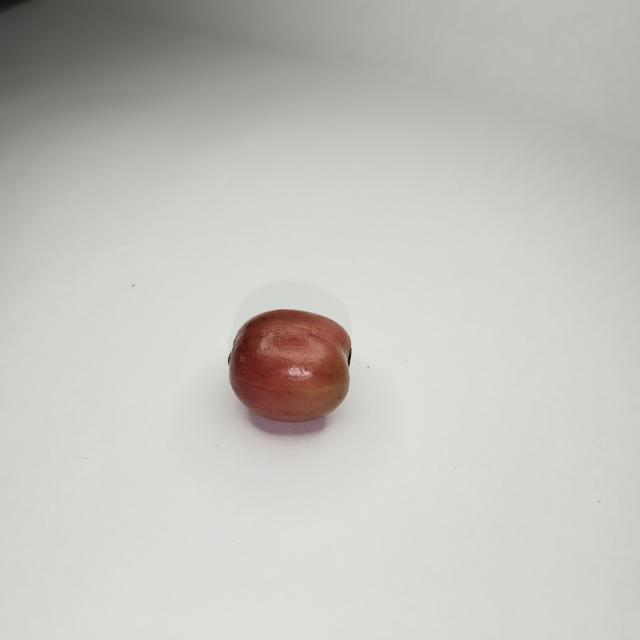Sano: (228, 307, 351, 428)
